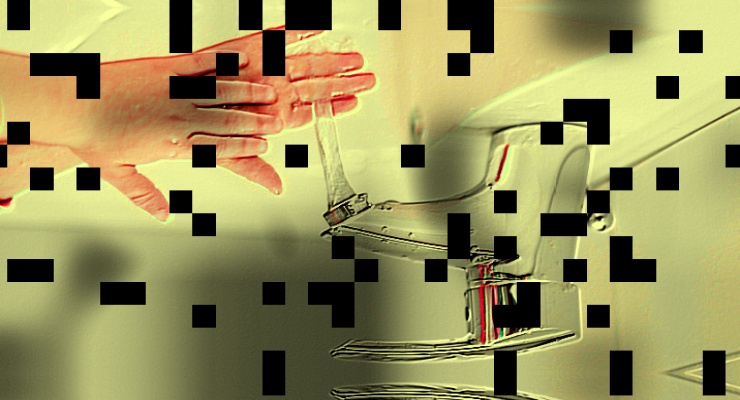washing hand: (90, 16, 523, 359)
